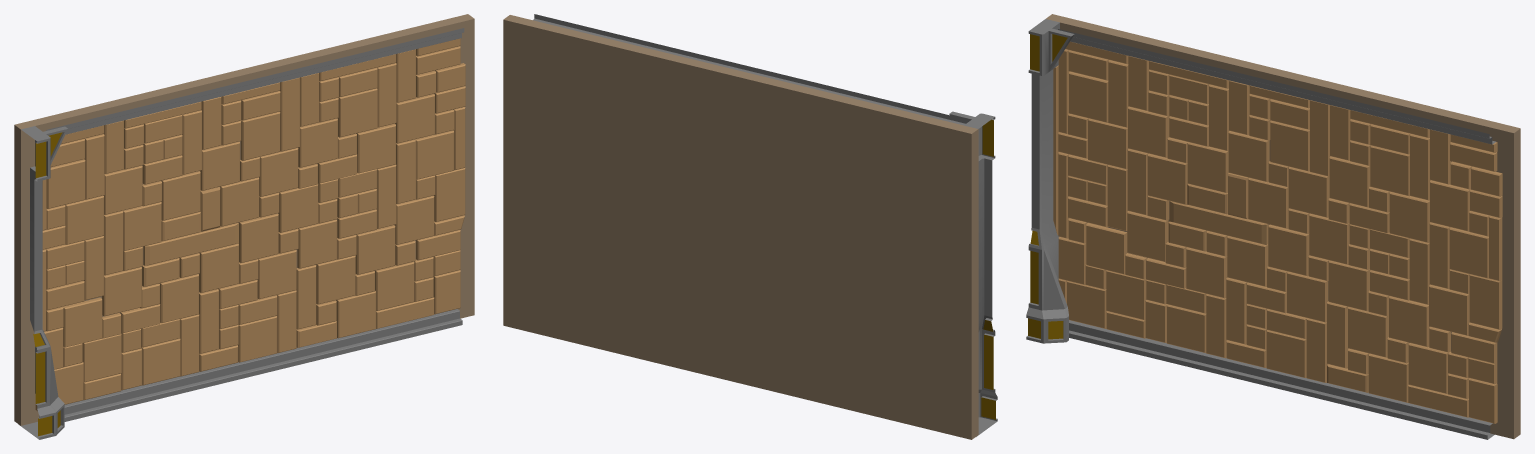
The model's file is wall_simple_L.fbx.
3 views of the same model, side by side, from view 1: azimuth 30°, elevation 25°; view 2: azimuth 150°, elevation 25°; view 3: azimuth 330°, elevation 25° (orthographic). The views are drawn at different scales.
Parts seen in each view (by area): view 1: wall_simple_L; view 2: wall_simple_L; view 3: wall_simple_L.
Boxes of the visible parts, bbox=[...] form: wall_simple_L: bbox=[14, 14, 474, 439]; wall_simple_L: bbox=[503, 14, 997, 439]; wall_simple_L: bbox=[1026, 14, 1520, 439].
Bounding box in the file's own units: 157 × 15.13 × 98.43.
